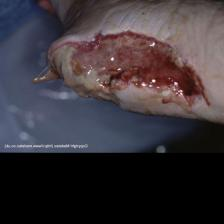Wound: (32, 34, 215, 119)
